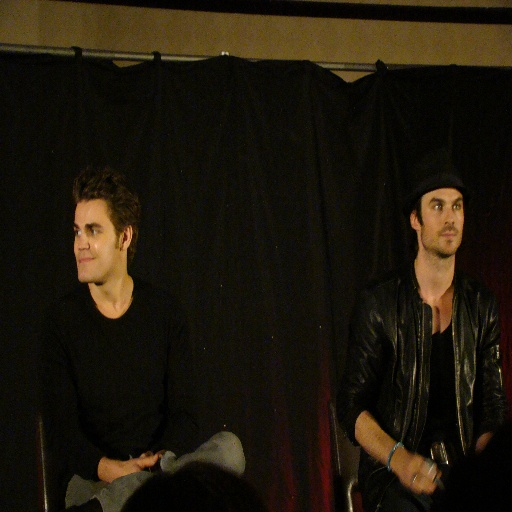hand: (392, 439, 447, 501), (110, 452, 157, 482), (136, 449, 166, 472)
